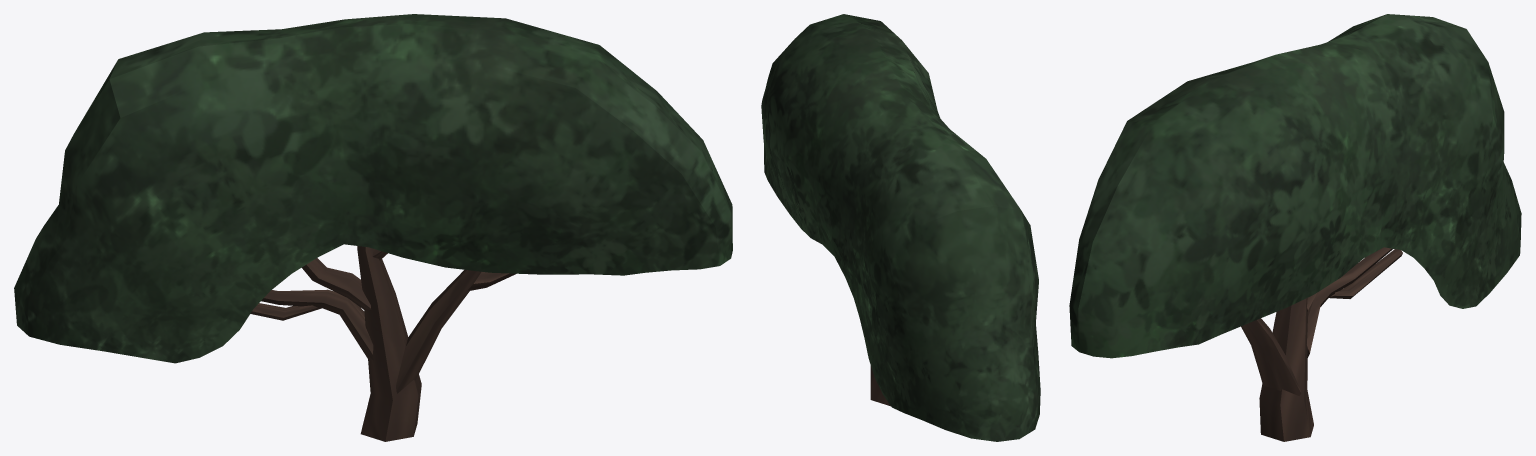
The model's file is ArvoreMediaPampas.fbx.
3 renders of one model, left to right at view 1: azimuth 30°, elevation 25°; view 2: azimuth 150°, elevation 25°; view 3: azimuth 270°, elevation 25°, orthographic. The views are drawn at different scales.
Parts seen in each view (by area): view 1: ArvoreMediaPampas; view 2: ArvoreMediaPampas; view 3: ArvoreMediaPampas.
Part boxes in pixels (<box>): ArvoreMediaPampas: <box>14,14,732,441</box>; ArvoreMediaPampas: <box>761,14,1040,441</box>; ArvoreMediaPampas: <box>1069,14,1521,441</box>.
Size of the model in its own units: 164 by 124 by 133.
